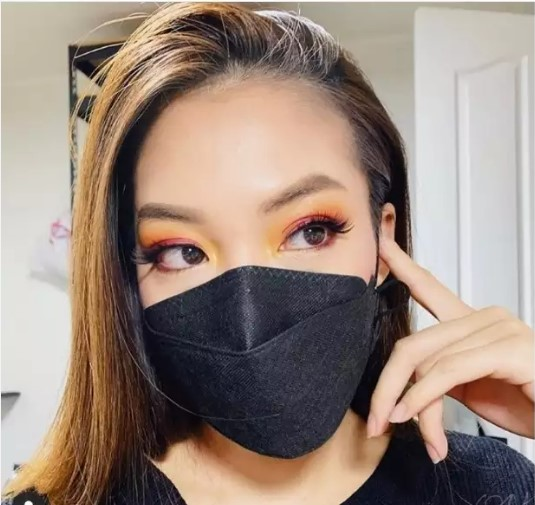face_with_mask: (108, 14, 400, 461)
